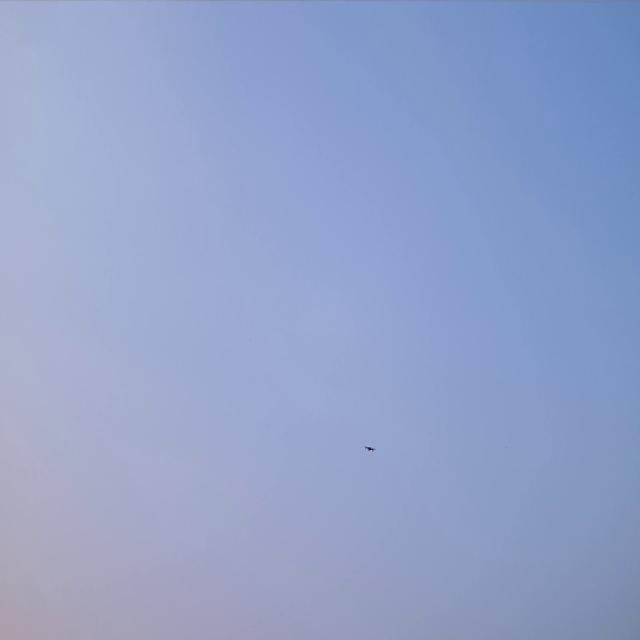UAV: (364, 443, 376, 454)
